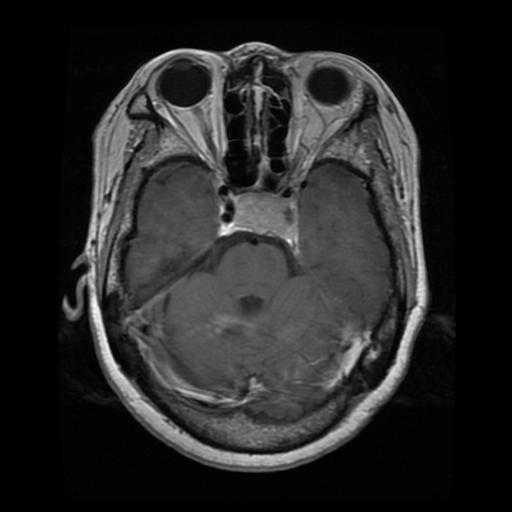Tumour-Pituitary: (209, 187, 315, 244)
